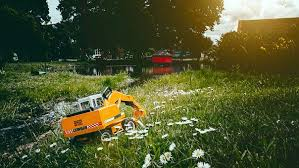excavator: (59, 90, 149, 148)
